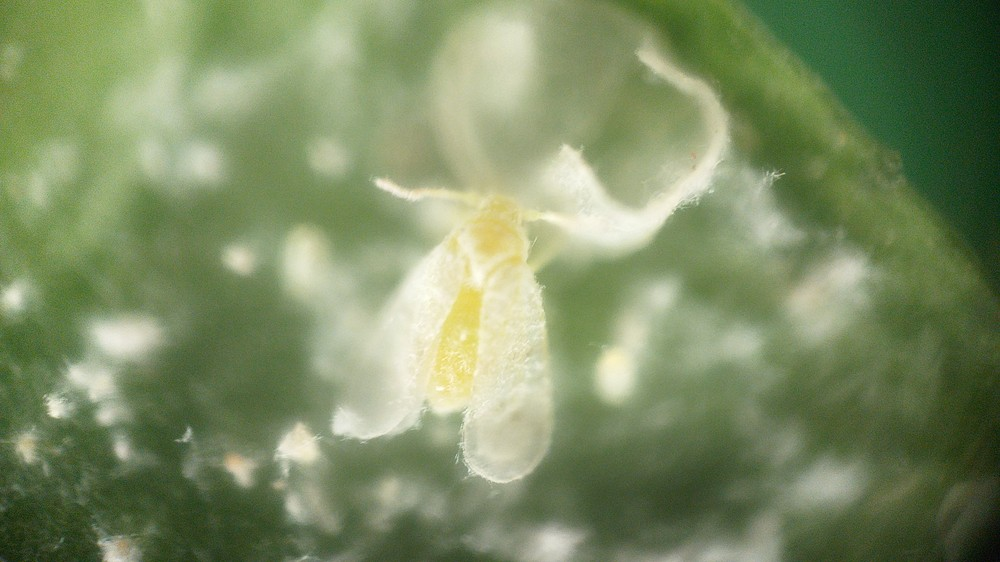Mosca Blanca: (318, 162, 656, 497)
